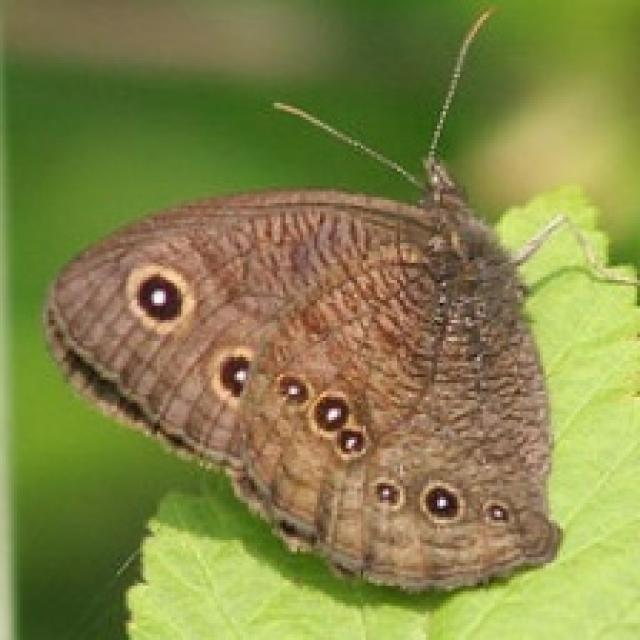butterfly: (40, 3, 637, 594)
